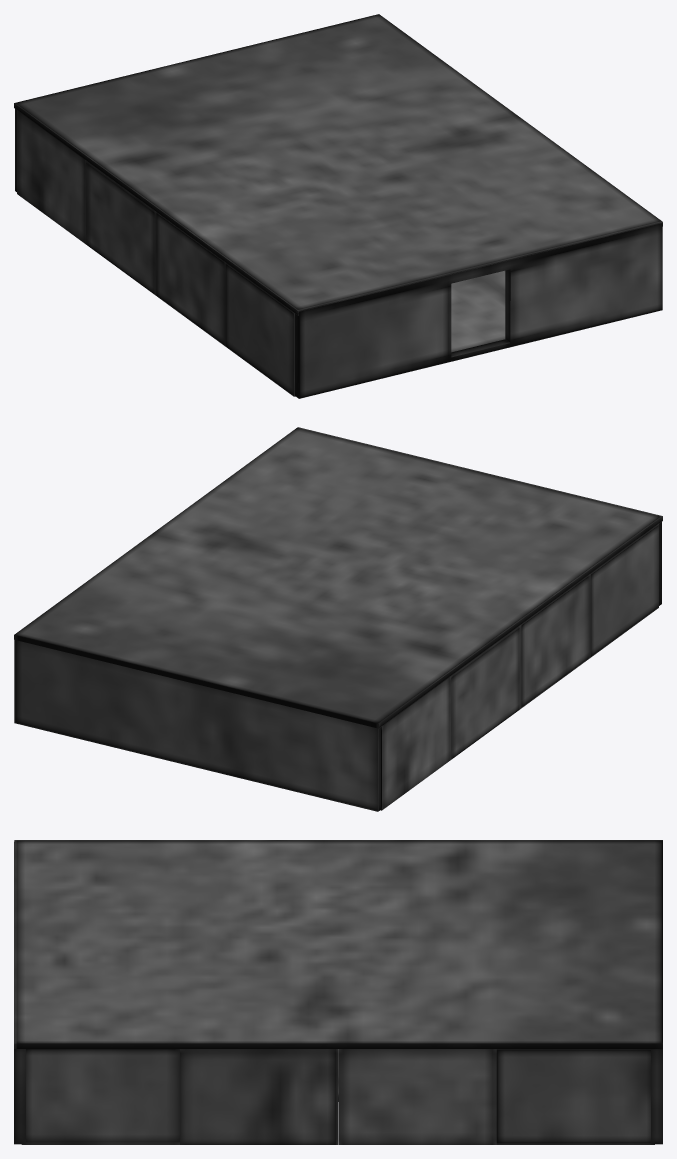
Rendered from FinalPrisonCellRoom v2.fbx.
The picture shows the model from 3 angles, top to bottom: view 1: azimuth 30°, elevation 25°; view 2: azimuth 150°, elevation 25°; view 3: azimuth 270°, elevation 25°; orthographic projection. The views are drawn at different scales.
Visible parts, largest first — view 1: Cube.001; view 2: Cube.001; view 3: Cube.001.
Boxes of the visible parts, x1,y1,x2,y2 form: Cube.001: (14, 14, 662, 398); Cube.001: (14, 427, 662, 811); Cube.001: (14, 840, 662, 1144).
Size of the model in its own units: 1085 by 252 by 1462.
1 material, 1 textured.
